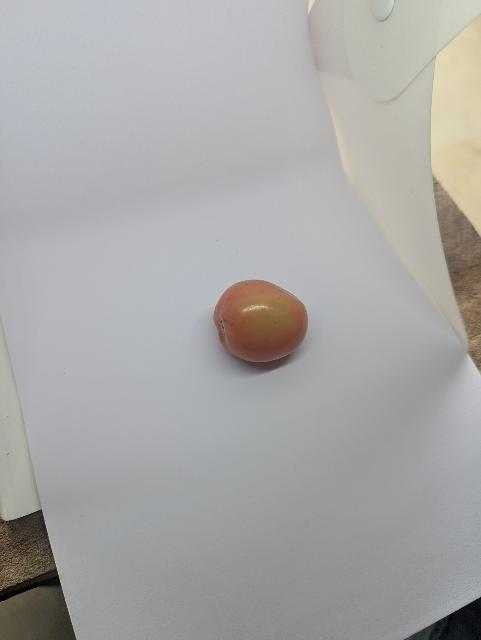turning: (210, 277, 321, 373)
